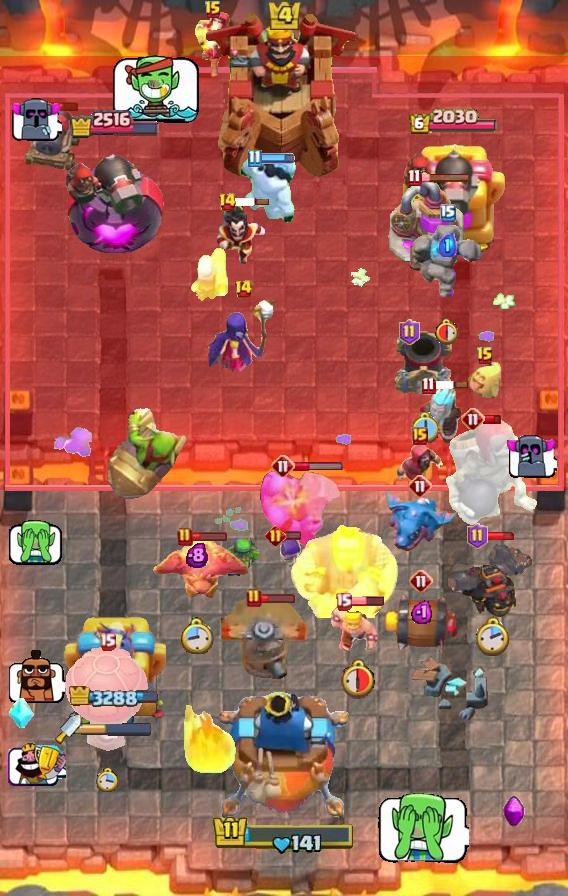archer: (324, 605, 388, 651)
archer-evolution: (448, 540, 538, 620)
archer-queen: (256, 469, 344, 549)
axe: (205, 295, 281, 375)
bar: (62, 611, 166, 731)
bat-evolution: (467, 360, 503, 398)
bowler: (192, 11, 234, 81), (395, 442, 445, 492)
cannon-cart: (62, 642, 152, 752)
clock: (212, 814, 356, 856)
dark-prince: (219, 597, 309, 683)
electro-giant: (441, 415, 541, 527)
electro-spirit: (186, 542, 208, 568), (412, 600, 433, 625), (439, 233, 457, 257)
elixir: (337, 657, 375, 699), (476, 616, 511, 658), (180, 617, 214, 654), (411, 413, 438, 444), (435, 317, 461, 345), (97, 768, 120, 793)
emote: (419, 173, 471, 184), (292, 460, 343, 471), (349, 595, 385, 607), (191, 530, 228, 541), (259, 152, 295, 163), (260, 593, 296, 604), (45, 101, 79, 112), (234, 197, 270, 207), (433, 380, 469, 390), (485, 531, 517, 541), (482, 414, 501, 426), (283, 530, 302, 541)
giant-skeleton: (290, 524, 400, 618)
giant-snowball: (217, 538, 259, 578)
goblin: (274, 536, 304, 576)
graveyard: (381, 488, 459, 552)
king-tower: (205, 11, 363, 181), (219, 692, 349, 826)
king-tower-bar: (81, 722, 153, 736)
lumberjack: (214, 205, 272, 269)
mortar: (411, 382, 473, 448)
mother-witch: (146, 534, 248, 604)
musketeer: (392, 330, 456, 396)
pad_2: (9, 698, 35, 730)
pekka: (387, 182, 465, 264)
rage: (236, 154, 296, 226)
royal-giant-evolution: (21, 104, 83, 174)
selected: (68, 109, 160, 140), (408, 108, 498, 136), (69, 686, 159, 710)
skeleton: (377, 790, 469, 864), (112, 54, 202, 126), (7, 648, 65, 703), (6, 742, 66, 788), (7, 520, 65, 566), (10, 96, 62, 142), (505, 433, 557, 479)
skeleton-king-skill: (503, 795, 526, 829)
text: (461, 407, 485, 431), (271, 454, 295, 478), (408, 474, 432, 498), (409, 569, 433, 593), (399, 319, 421, 345), (467, 523, 488, 549), (265, 525, 286, 546), (218, 192, 237, 212), (234, 279, 253, 299), (204, 0, 222, 20), (476, 346, 494, 366), (335, 593, 353, 611), (99, 633, 117, 651), (177, 527, 193, 547), (246, 588, 262, 608), (440, 204, 456, 222), (412, 427, 428, 445), (406, 169, 421, 188), (247, 148, 261, 167), (421, 377, 435, 396)
the-log: (381, 593, 461, 653)
tombstone: (188, 245, 230, 303)
tower-bar: (399, 138, 507, 256), (64, 138, 164, 256)
valkyrie: (179, 705, 239, 775)
valkyrie-evolution: (410, 225, 486, 303)
x-bow: (107, 408, 187, 502)
